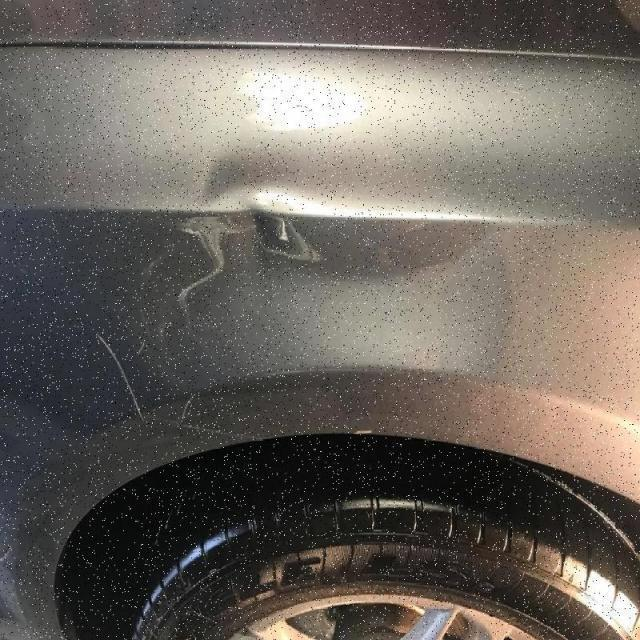dent: (179, 212, 510, 388)
